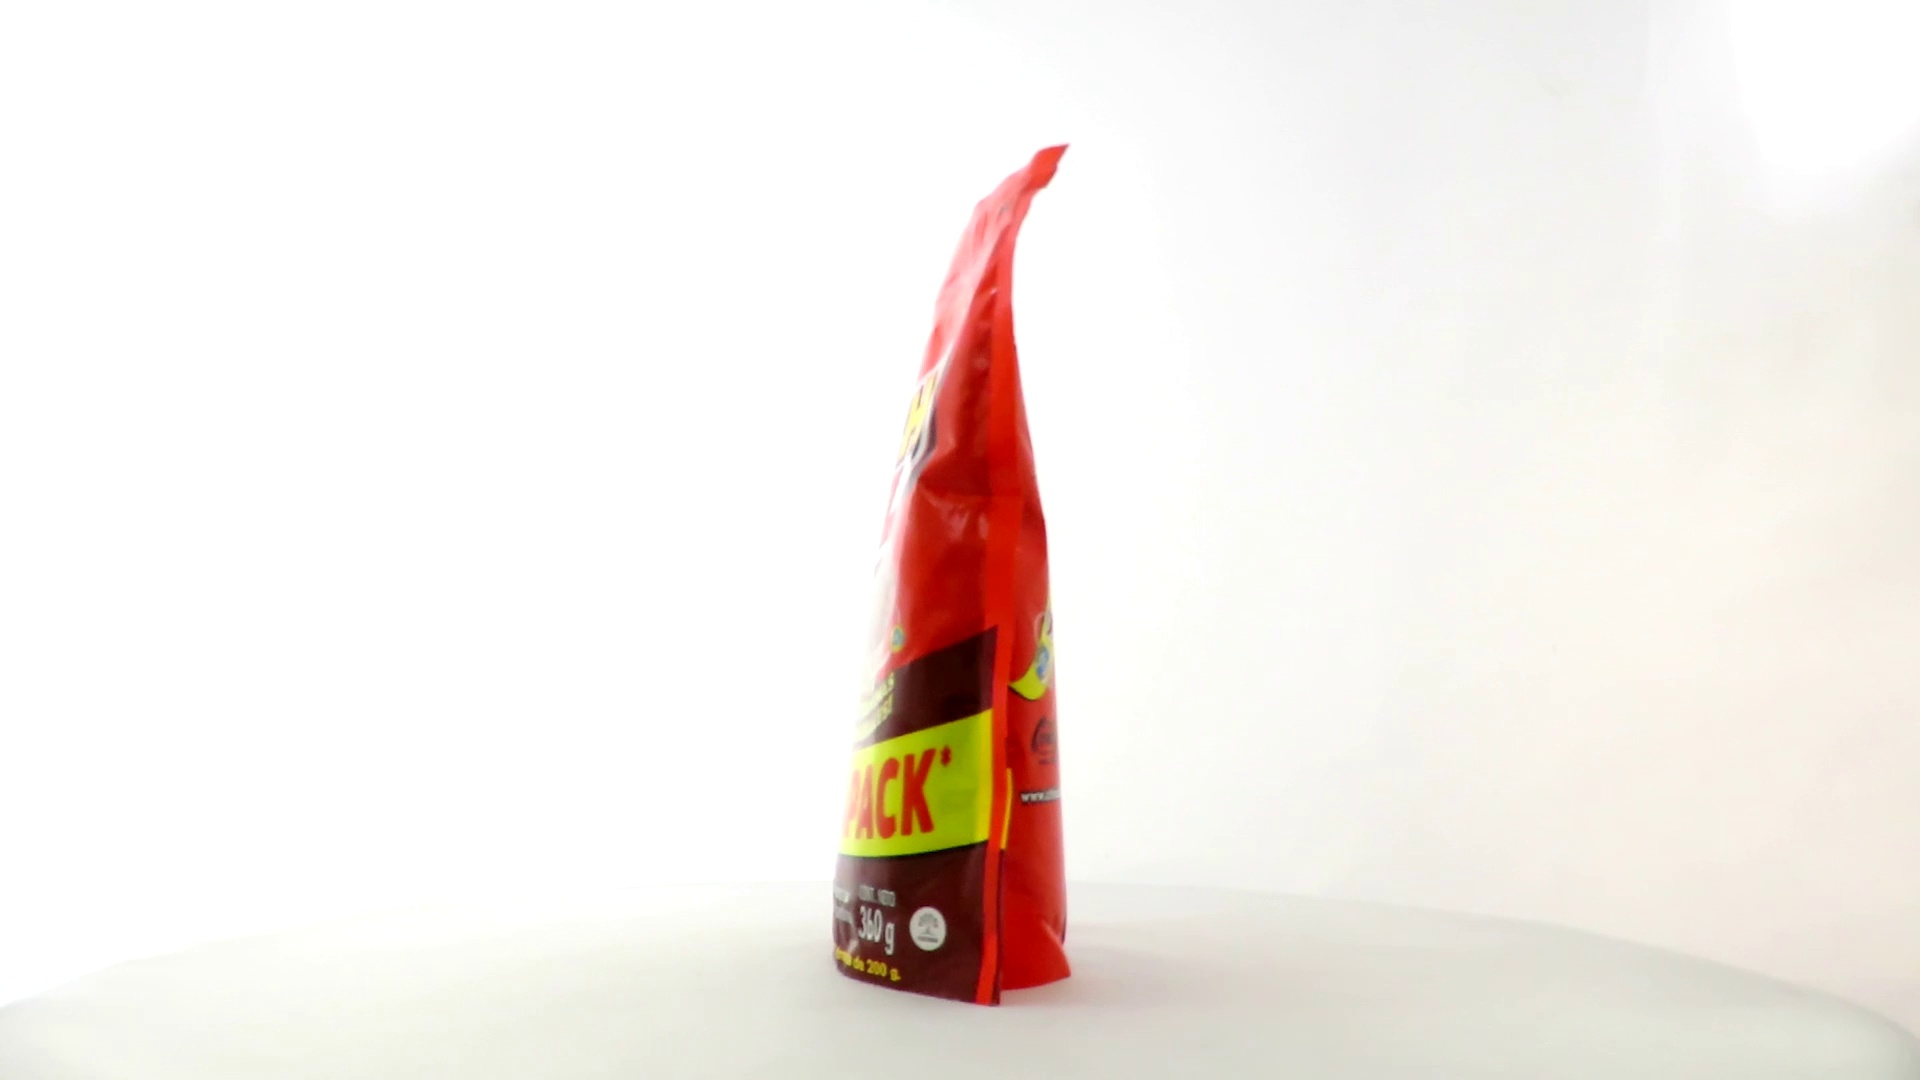COL0170103DYP36000: (827, 138, 1077, 1013)
